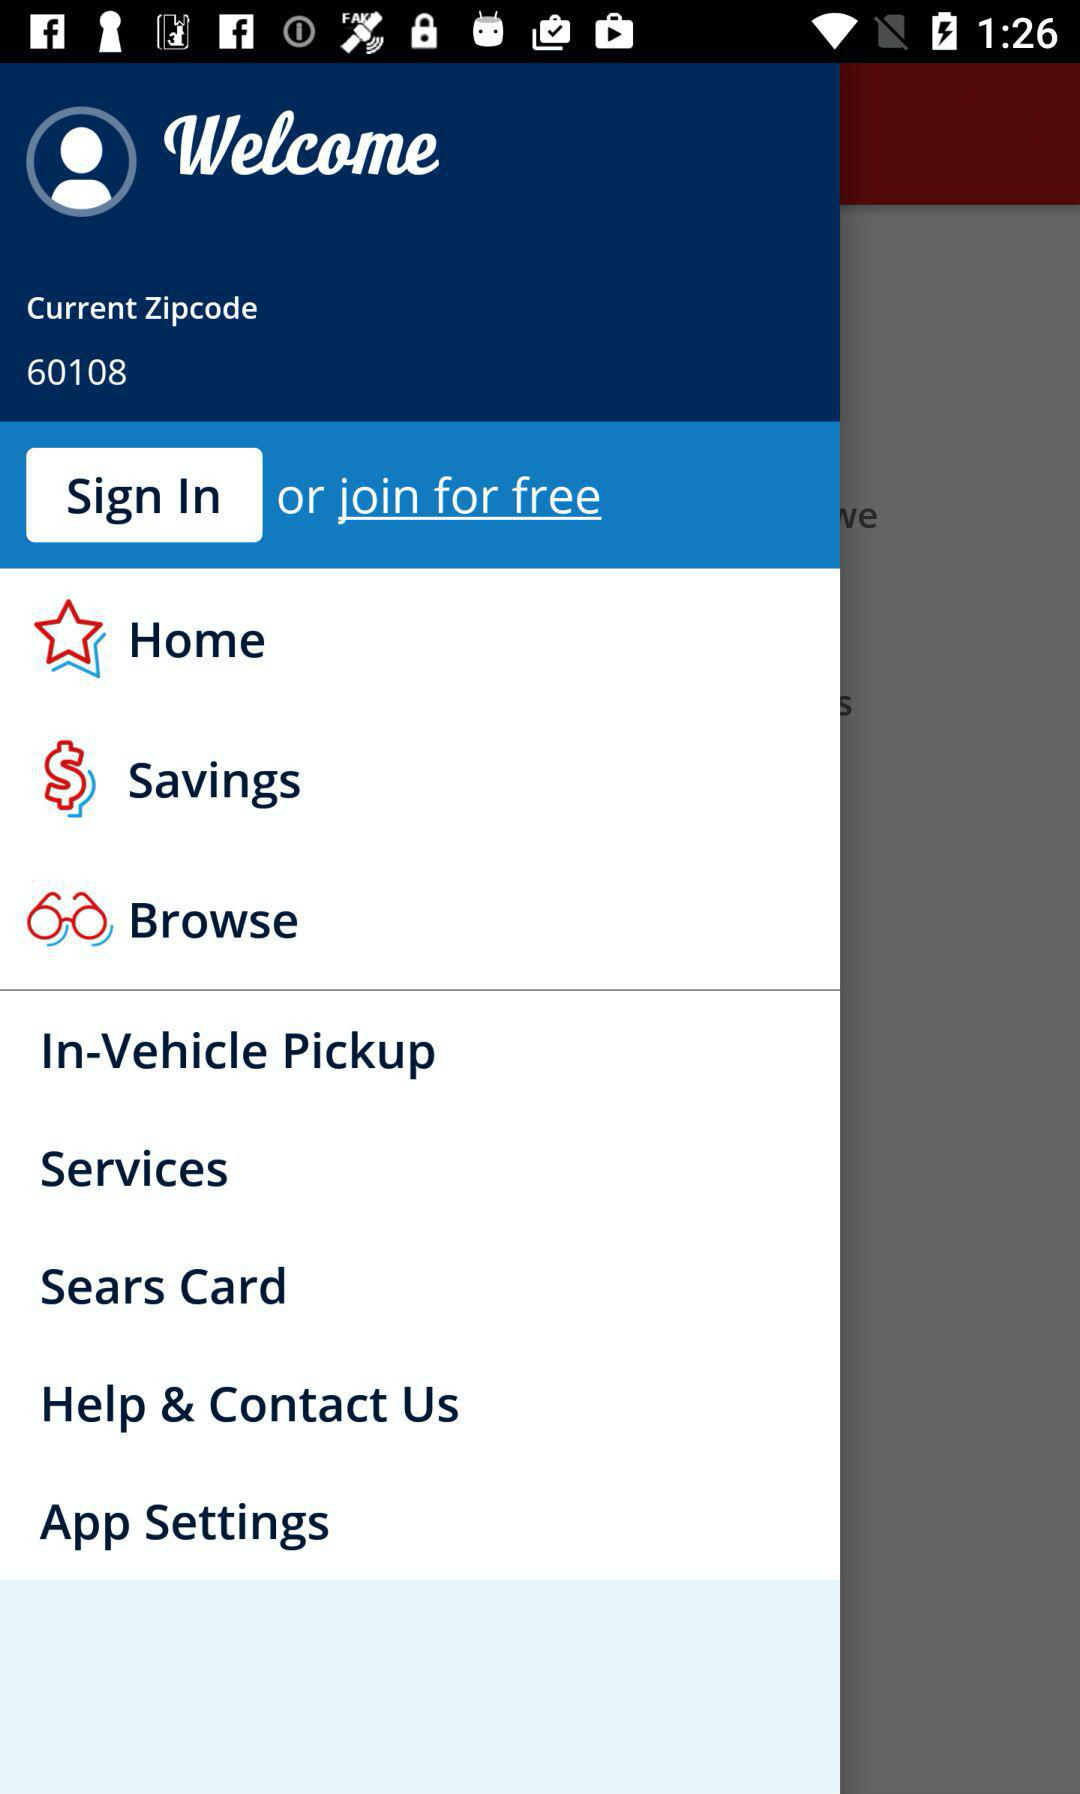Drawer: (1, 64, 839, 1794)
Icon: (26, 108, 138, 219), (35, 598, 108, 680)
Image: (27, 891, 115, 950), (44, 739, 97, 820)
Text: (44, 1383, 460, 1434), (44, 1030, 436, 1082), (164, 110, 441, 177), (278, 475, 603, 527), (38, 1502, 331, 1552), (42, 1266, 287, 1306), (129, 760, 302, 811), (28, 295, 259, 329), (41, 1149, 229, 1189), (131, 902, 299, 941), (131, 621, 266, 660), (28, 358, 128, 387)
TextButton: (26, 448, 264, 545)
UpperTaskBar: (1, 1, 1080, 64)
